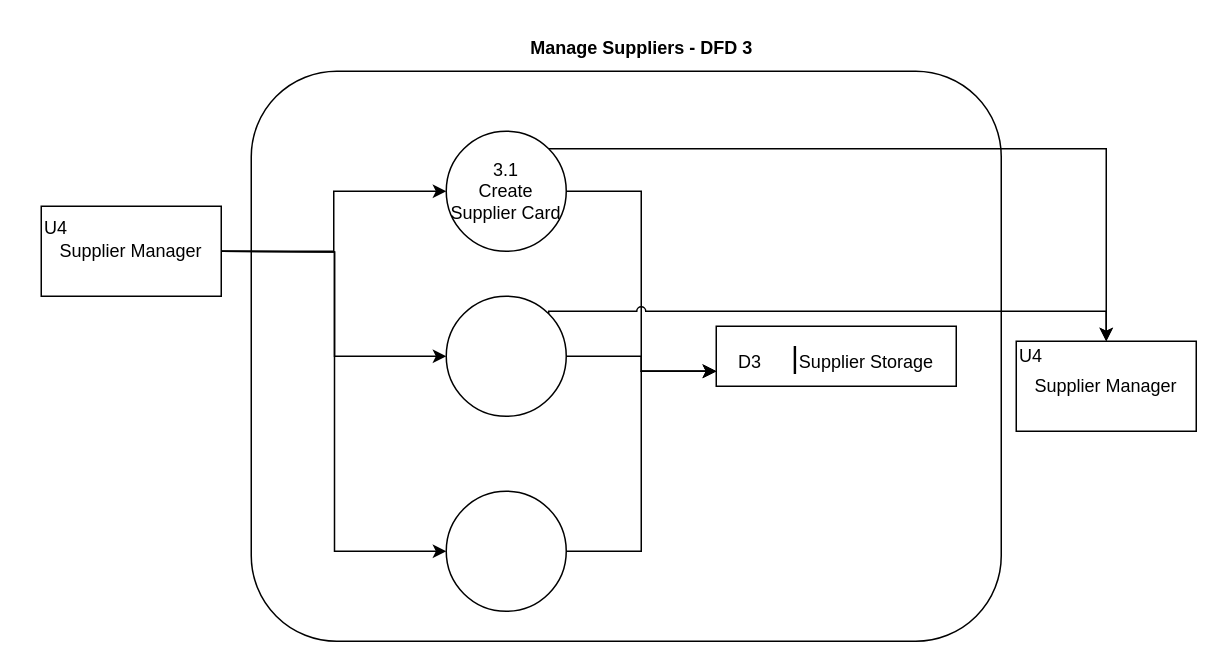
Image size: 1223x668. Some labels were removed from this diagram. Each missing label, with the centre of its shape:
"3.2 Update Supplier Card" goes at point (505, 355).
"3.3 Delete Supplier Card" goes at point (505, 550).
